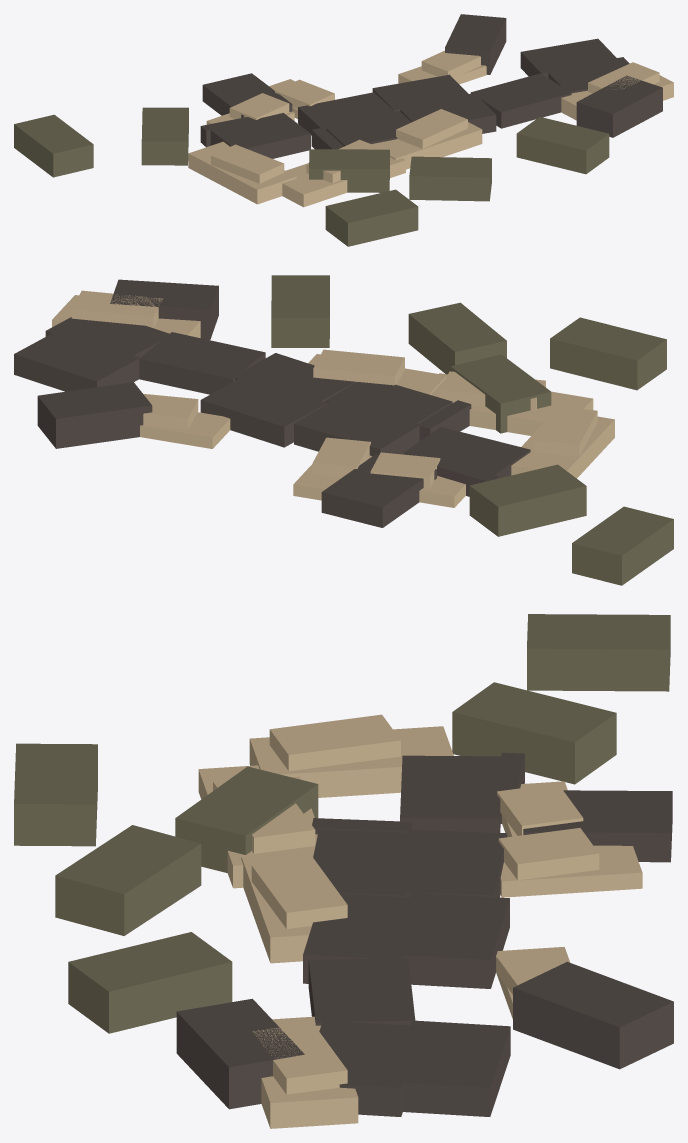
The model's file is SM_SacosRemate_v1_Talud_e3_Brecha_LOD1.fbx.
The picture shows the model from 3 angles, top to bottom: view 1: azimuth 30°, elevation 25°; view 2: azimuth 150°, elevation 25°; view 3: azimuth 270°, elevation 25°; orthographic projection. The views are drawn at different scales.
Visible parts, largest first — view 1: SM_sacos_piezas_v27_LOD1; view 2: SM_sacos_piezas_v27_LOD1; view 3: SM_sacos_piezas_v27_LOD1.
Part boxes in pixels (x1,y1,x2,y2): SM_sacos_piezas_v27_LOD1: (14, 14, 673, 246); SM_sacos_piezas_v27_LOD1: (14, 275, 673, 585); SM_sacos_piezas_v27_LOD1: (14, 614, 673, 1128).
Bounding box in the file's own units: 6.29 × 0.26 × 3.71.
